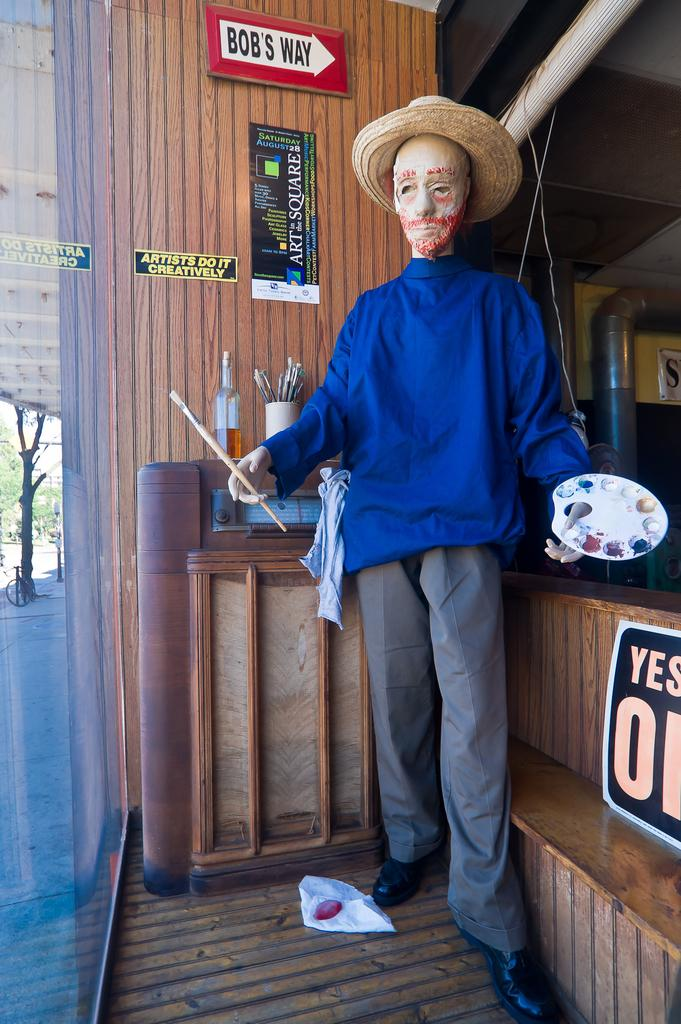Hat: (349, 92, 521, 228)
